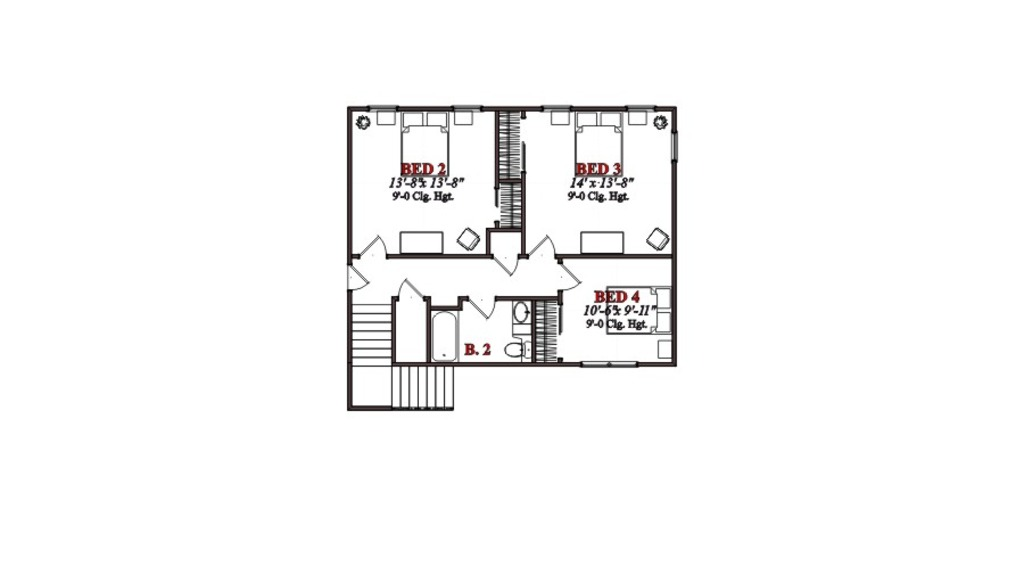bed: (604, 275, 677, 336), (397, 109, 454, 185), (575, 110, 630, 184)
door: (525, 226, 560, 260), (466, 291, 502, 324), (391, 272, 428, 303), (488, 250, 522, 280), (353, 235, 394, 258), (343, 263, 370, 289), (559, 261, 586, 287)
large_sink: (501, 338, 535, 362)
small_sink: (511, 303, 534, 339)
stairs: (348, 299, 455, 417)
tub: (431, 307, 463, 366)
window: (579, 354, 641, 371), (661, 128, 686, 170)
